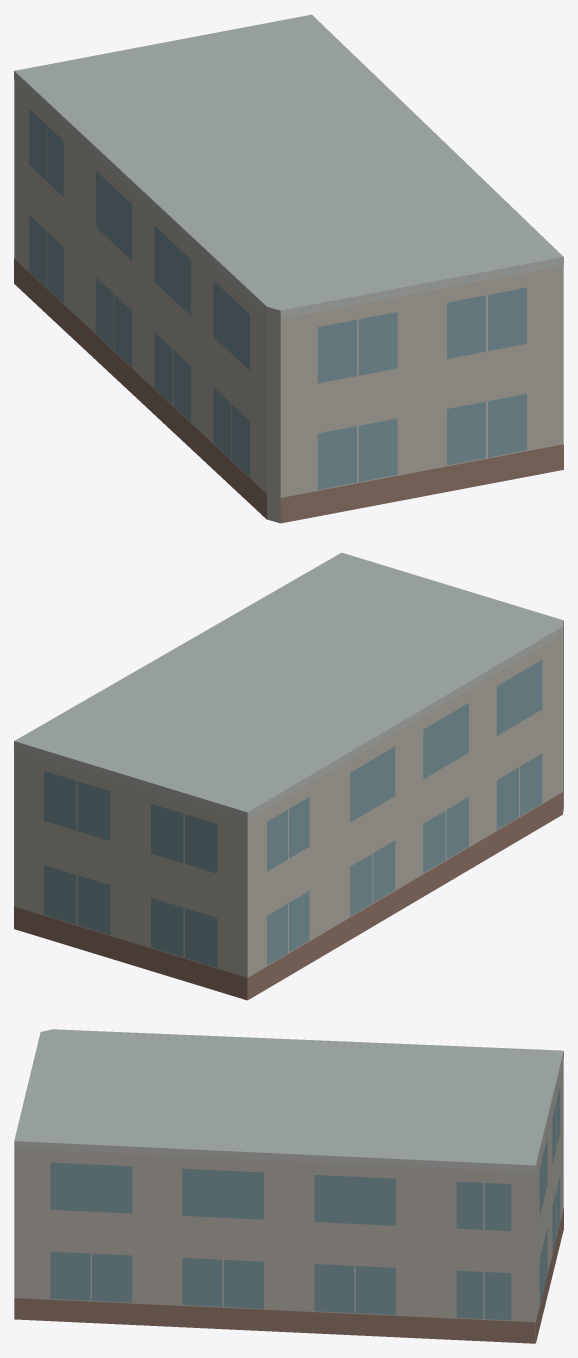
Rendered from survey-upis-32564879.glb.
The picture shows the model from 3 angles, top to bottom: view 1: azimuth 30°, elevation 25°; view 2: azimuth 150°, elevation 25°; view 3: azimuth 270°, elevation 25°; orthographic projection. The views are drawn at different scales.
Parts seen in each view (by area): view 1: survey-upis-32564879.tmp; view 2: survey-upis-32564879.tmp; view 3: survey-upis-32564879.tmp.
Part boxes in pixels (x1,y1,x2,y2): survey-upis-32564879.tmp: [14, 14, 563, 523]; survey-upis-32564879.tmp: [14, 552, 563, 1000]; survey-upis-32564879.tmp: [14, 1029, 563, 1343].
Bounding box in the file's own units: 10 × 6.1 × 17.06.
